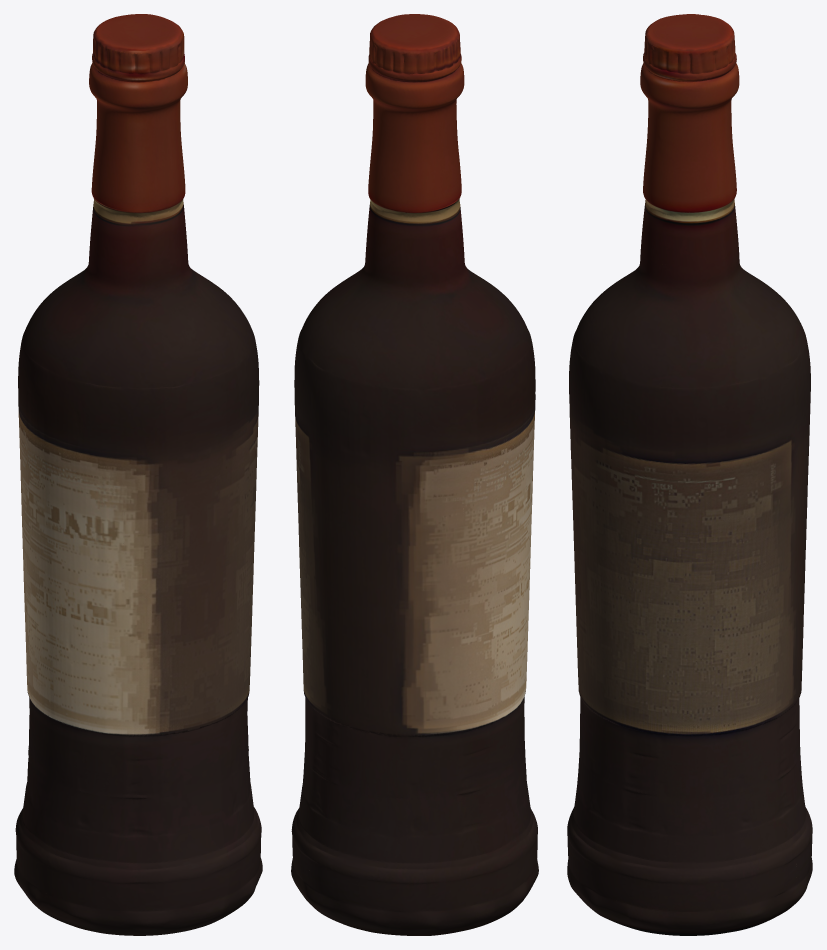
Rendered from Wine.glb.
3 views of the same model, side by side, from view 1: azimuth 30°, elevation 25°; view 2: azimuth 150°, elevation 25°; view 3: azimuth 270°, elevation 25° (orthographic).
Parts seen in each view (by area): view 1: tripo_node_d9e53324-9ee8-4756-9f3e-2eec2a24b019; view 2: tripo_node_d9e53324-9ee8-4756-9f3e-2eec2a24b019; view 3: tripo_node_d9e53324-9ee8-4756-9f3e-2eec2a24b019.
Boxes of the visible parts, x1,y1,x2,y2 form: tripo_node_d9e53324-9ee8-4756-9f3e-2eec2a24b019: [14, 14, 262, 935]; tripo_node_d9e53324-9ee8-4756-9f3e-2eec2a24b019: [291, 14, 538, 935]; tripo_node_d9e53324-9ee8-4756-9f3e-2eec2a24b019: [567, 14, 812, 935].
Size of the model in its own units: 0.2583 by 0.9982 by 0.2572.
Materials: 1 (1 with a texture image).
